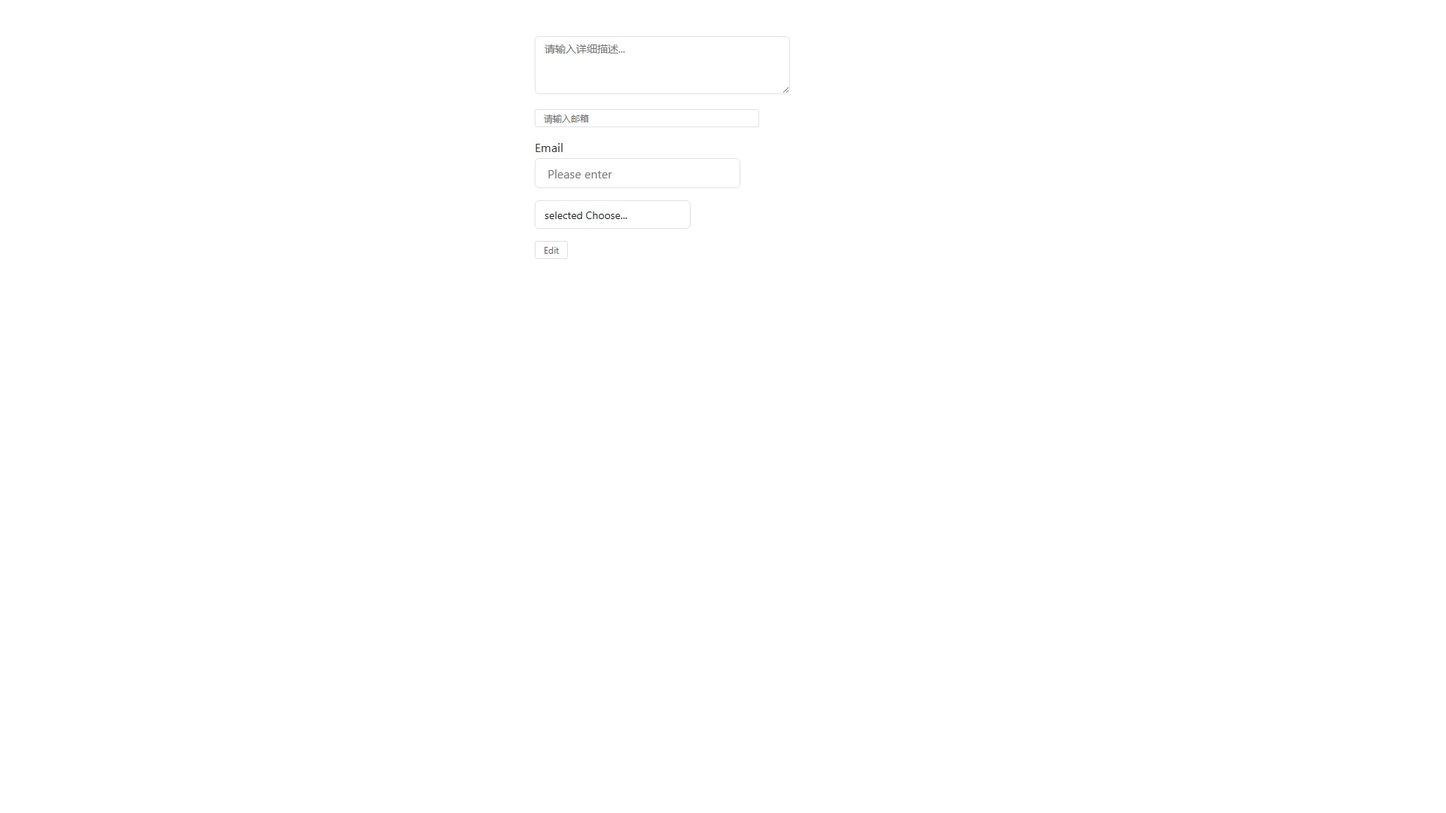button: (535, 241, 568, 259)
input: (535, 158, 740, 188), (535, 109, 759, 127)
select: (535, 200, 691, 229)
textarea: (535, 36, 790, 94)
